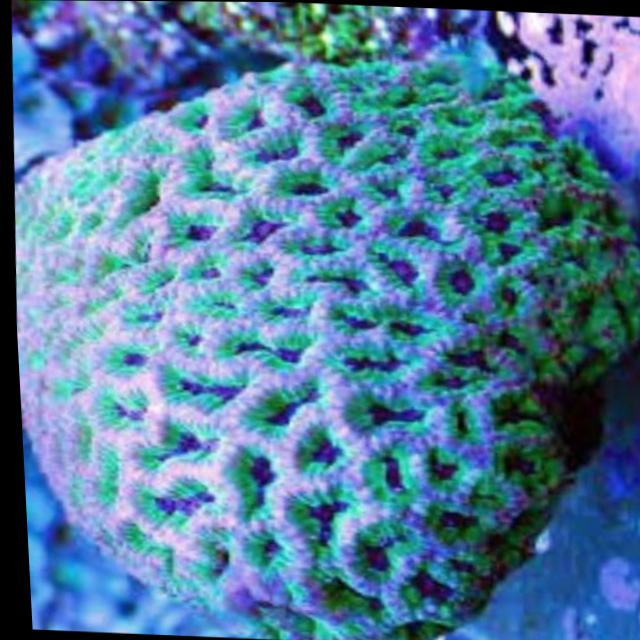Healthy Coral: (2, 31, 635, 628)
